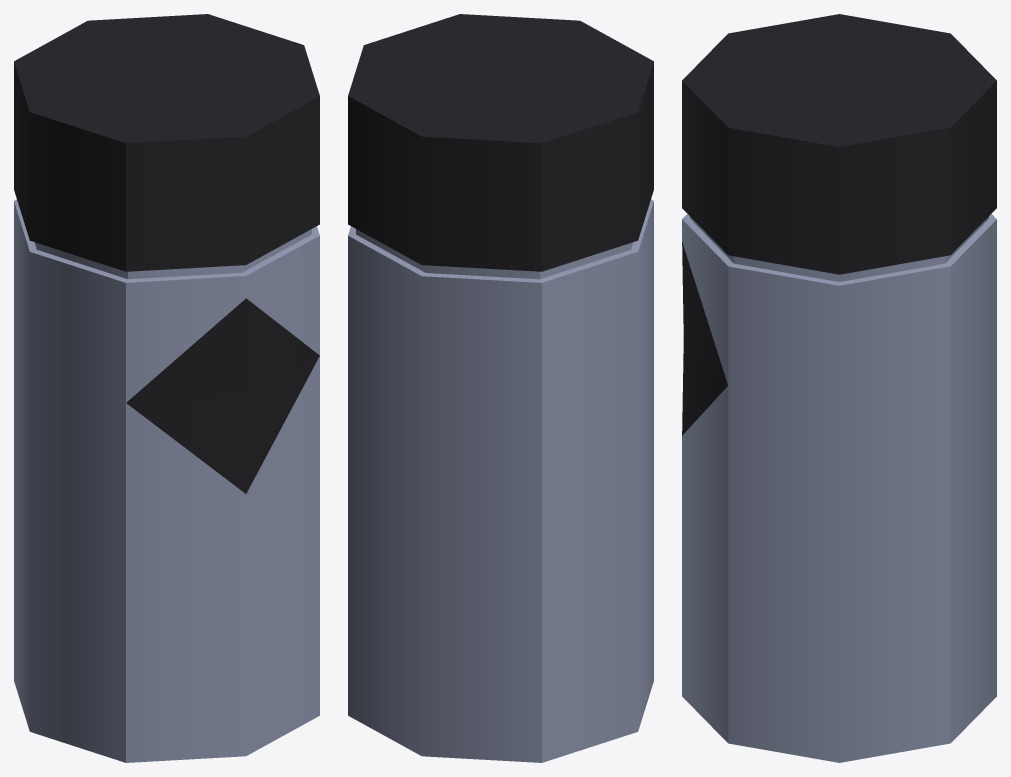
Rendered from Bottle-Large-Bathroom-Hotel_01.fbx.
3 views of the same model, side by side, from view 1: azimuth 30°, elevation 25°; view 2: azimuth 150°, elevation 25°; view 3: azimuth 270°, elevation 25° (orthographic).
Parts seen in each view (by area): view 1: LargeBottle; view 2: LargeBottle; view 3: LargeBottle.
Boxes of the visible parts, x1,y1,x2,y2 form: LargeBottle: (14,14,319,762); LargeBottle: (348,14,653,762); LargeBottle: (682,14,996,762).
Bounding box in the file's own units: 0.0643 × 0.1389 × 0.0643.
